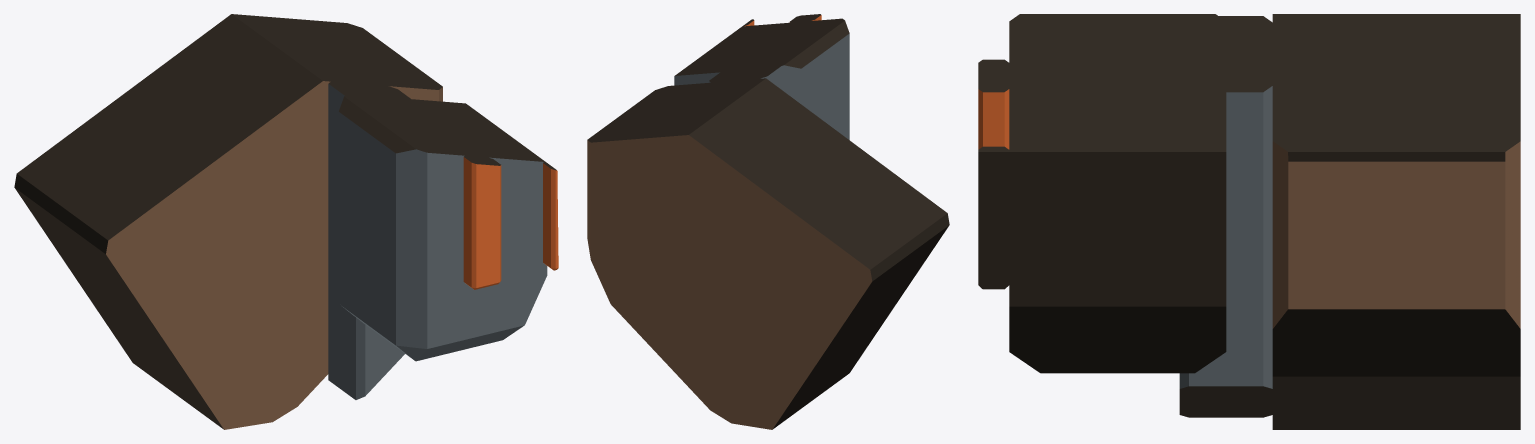
The model's file is SM_DoorShard_01_13.fbx.
The picture shows the model from 3 angles, left to right: view 1: azimuth 30°, elevation 25°; view 2: azimuth 150°, elevation 25°; view 3: azimuth 270°, elevation 25°; orthographic projection. The views are drawn at different scales.
Visible parts, largest first — view 1: SM_DoorShard_01_13; view 2: SM_DoorShard_01_13; view 3: SM_DoorShard_01_13.
Part boxes in pixels (<box>): SM_DoorShard_01_13: <box>14,14,558,429</box>; SM_DoorShard_01_13: <box>587,14,949,429</box>; SM_DoorShard_01_13: <box>978,14,1520,429</box>.
Bounding box in the file's own units: 34.72 × 35 × 31.71.
